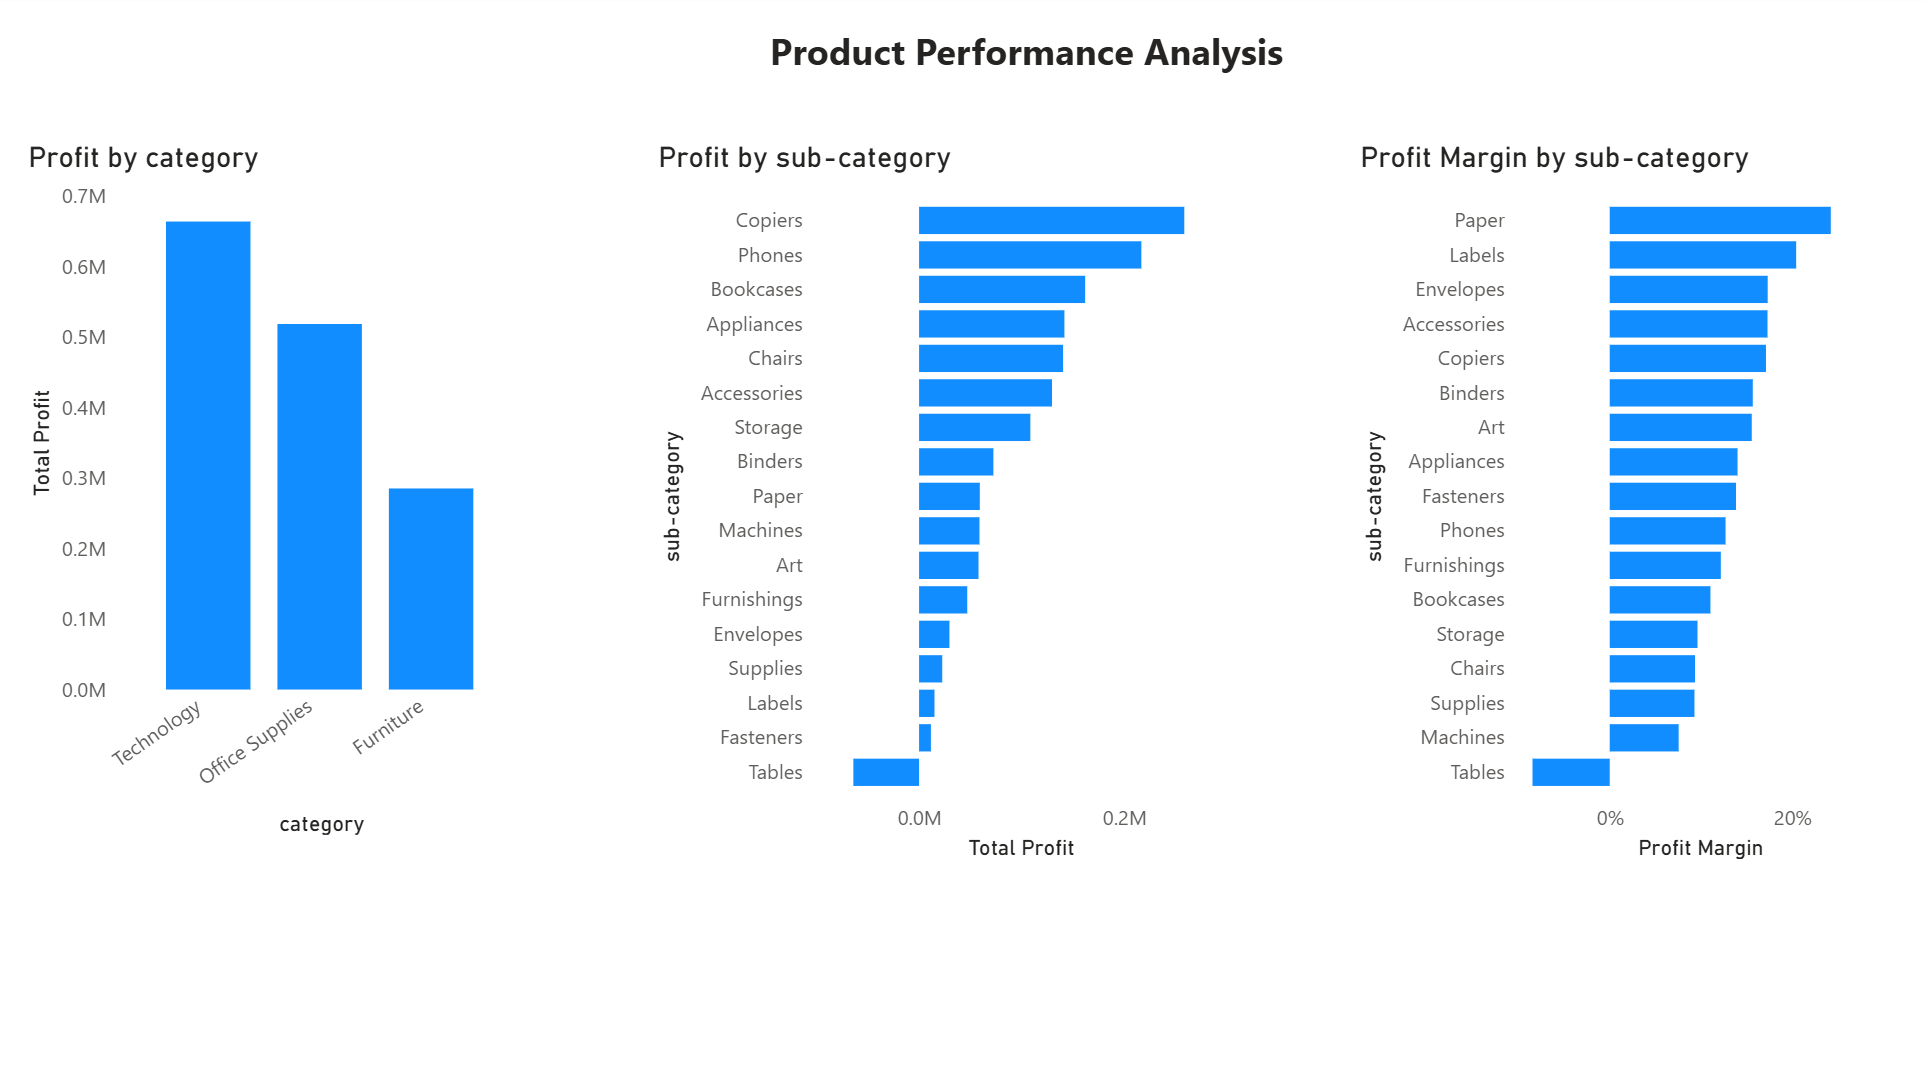

The dashboard page shown, as its layout file describes it:
{"tool":"powerbi","page":{"name":"Product insights","canvas":[1280,720],"ordinal":1},"visuals":[{"type":"clusteredColumnChart","title":"Profit by category","fields":{"Category":["global_superstore_cleaned.category"],"Y":["global_superstore_cleaned.Total Profit"]},"box":[16,96,336,464],"z":0},{"type":"clusteredBarChart","title":"Profit by sub-category","fields":{"Category":["global_superstore_cleaned.sub-category"],"Y":["global_superstore_cleaned.Total Profit"]},"box":[432,96,400,480],"z":1000},{"type":"clusteredBarChart","fields":{"Category":["global_superstore_cleaned.sub-category"],"Y":["global_superstore_cleaned.Profit Margin"]},"box":[896,96,368,480],"z":2000},{"type":"textbox","box":[416,16,528,48],"z":2001}]}

Visuals, with their boxes in screenshot pixels (x1, y1, x2, y2), scaled from the page's 1280x720 canvas onto the 1927x1077 screenshot:
"Profit by category" clusteredColumnChart: 24,144,530,838
"Profit by sub-category" clusteredBarChart: 650,144,1253,862
clusteredBarChart - global_superstore_cleaned.sub-category x global_superstore_cleaned.Profit Margin: 1349,144,1903,862
textbox: 626,24,1421,96
